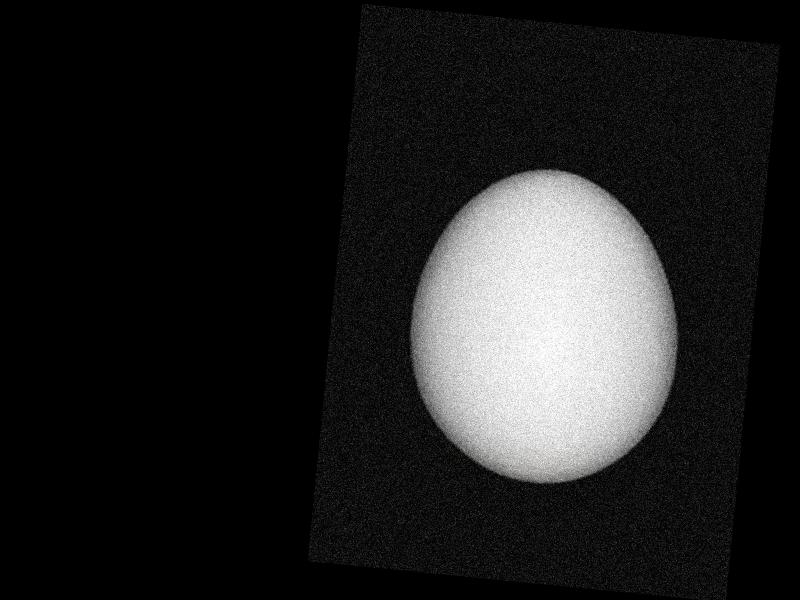Eggs: (396, 160, 692, 493)
